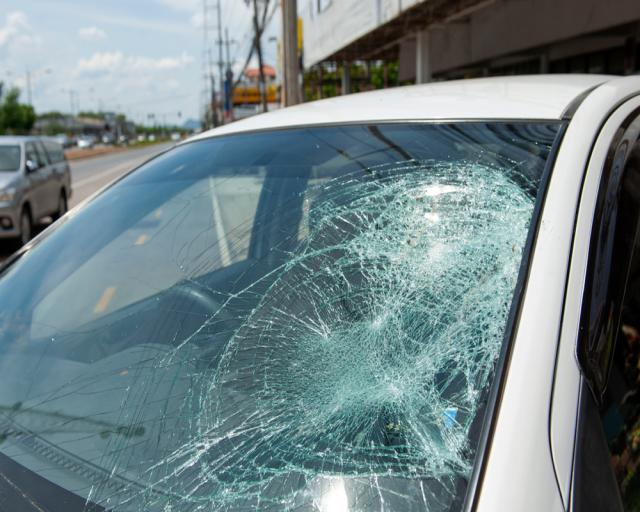glass shatter: (0, 122, 561, 512)
